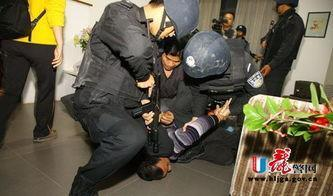Fall-Detected: (135, 28, 226, 183)
